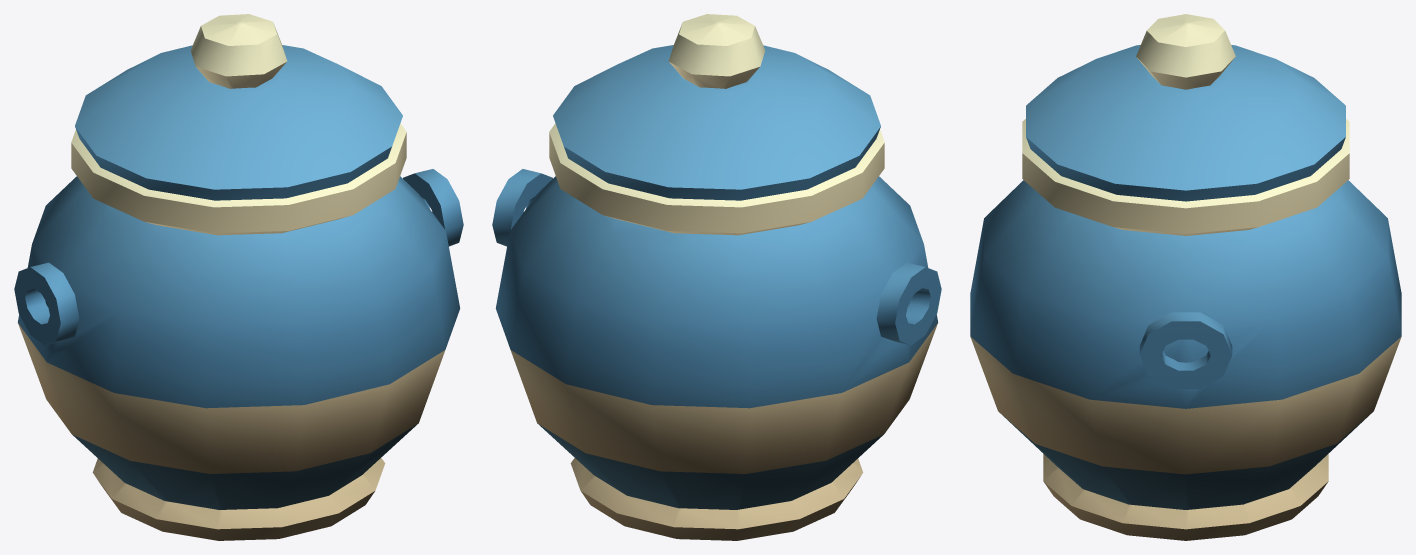
File: urn_wide.glb
The picture shows the model from 3 angles, left to right: view 1: azimuth 30°, elevation 25°; view 2: azimuth 150°, elevation 25°; view 3: azimuth 270°, elevation 25°; orthographic projection.
Visible parts, largest first — view 1: Item; view 2: Item; view 3: Item.
Part boxes in pixels (bbox=[...]): Item: bbox=[14, 14, 463, 540]; Item: bbox=[492, 14, 941, 540]; Item: bbox=[970, 14, 1401, 540].
Size of the model in its own units: 1.3 by 1.42 by 1.21.
1 material, 1 textured.
